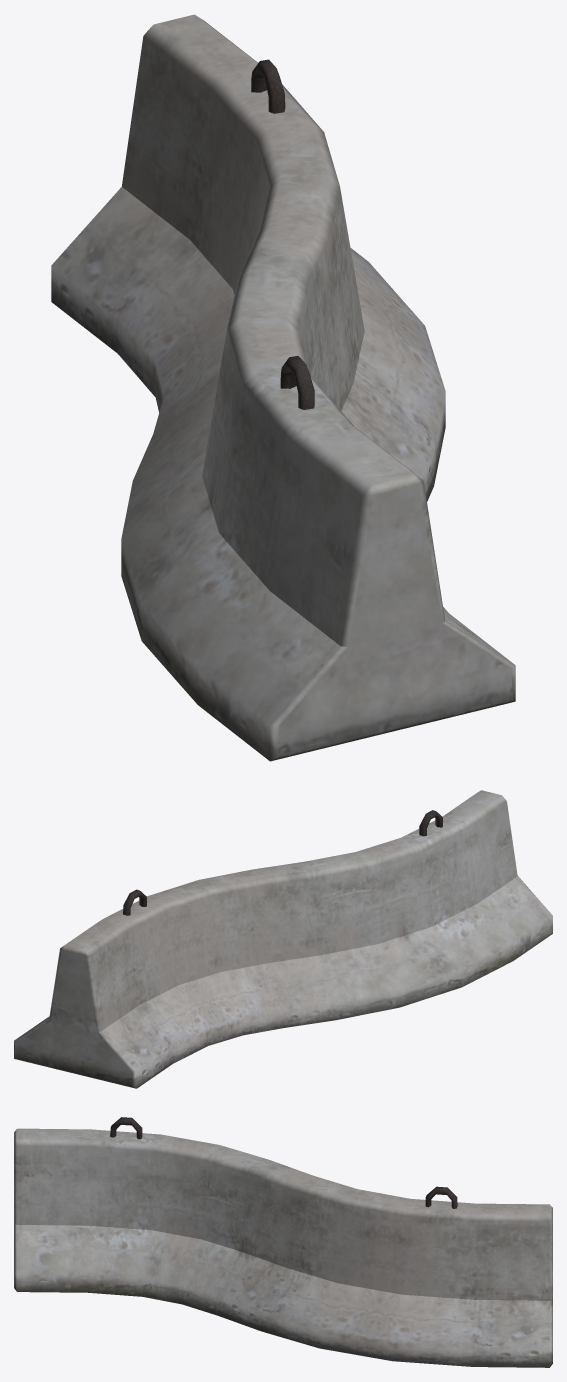
Rendered from ConcreteBarrier_A_C.fbx.
The picture shows the model from 3 angles, top to bottom: view 1: azimuth 30°, elevation 25°; view 2: azimuth 150°, elevation 25°; view 3: azimuth 270°, elevation 25°; orthographic projection. The views are drawn at different scales.
Parts seen in each view (by area): view 1: ConcreteBarrier_A_C; view 2: ConcreteBarrier_A_C; view 3: ConcreteBarrier_A_C.
Boxes of the visible parts, x1,y1,x2,y2 form: ConcreteBarrier_A_C: (51,14,515,761); ConcreteBarrier_A_C: (14,790,552,1088); ConcreteBarrier_A_C: (14,1117,552,1367).
Bounding box in the file's own units: 180 × 89.84 × 300.
